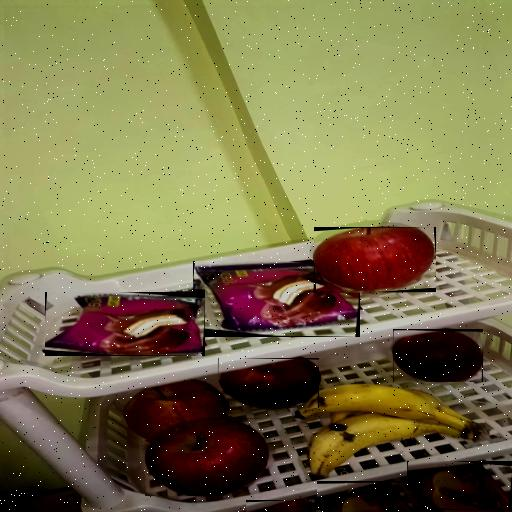Apple: (145, 418, 267, 496), (314, 228, 436, 294), (124, 380, 228, 440), (216, 358, 318, 408), (393, 329, 483, 382), (246, 500, 312, 512)
Choco Fills: (407, 461, 512, 510), (317, 481, 415, 510)
Choco Pie: (193, 261, 360, 337), (45, 292, 205, 356)
